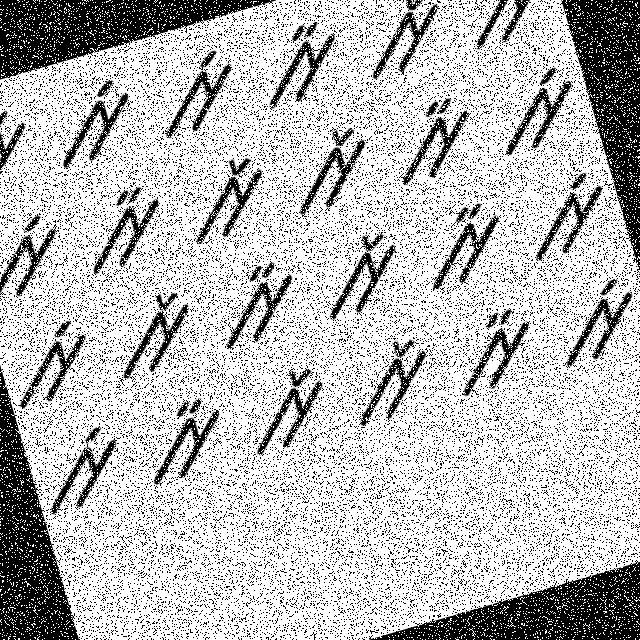wan: (374, 80, 493, 194), (68, 178, 179, 282), (439, 296, 547, 402), (127, 385, 236, 490), (203, 254, 310, 354), (412, 190, 516, 292), (248, 11, 350, 110), (0, 94, 43, 204)
wang: (27, 412, 136, 524), (0, 307, 106, 420), (481, 58, 591, 163), (540, 266, 639, 376), (516, 164, 623, 264), (144, 42, 248, 144), (42, 73, 148, 173), (0, 203, 80, 318)
war: (276, 118, 386, 224), (100, 278, 206, 388), (306, 217, 412, 326), (233, 358, 342, 463), (338, 328, 442, 434), (174, 148, 280, 250), (350, 0, 458, 86), (452, 0, 560, 59)
